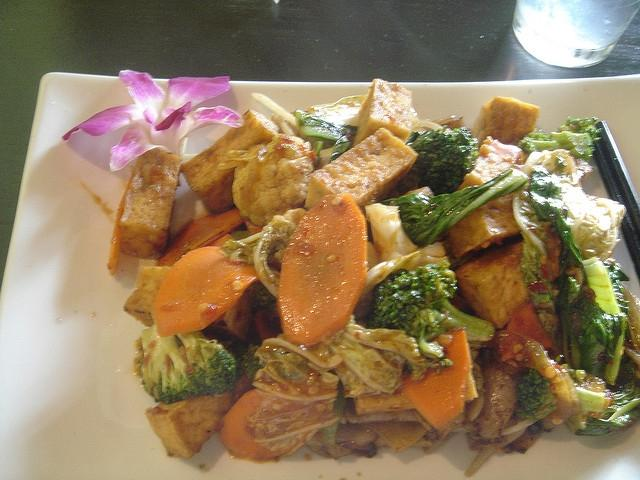broccoli: (364, 257, 494, 359), (378, 168, 532, 249), (138, 327, 236, 404), (406, 125, 479, 196), (516, 369, 606, 422), (555, 116, 603, 155), (550, 131, 592, 157)
carrot: (277, 192, 367, 344), (152, 247, 258, 337), (398, 328, 479, 428), (157, 208, 244, 267), (218, 389, 289, 459), (507, 300, 552, 350)
